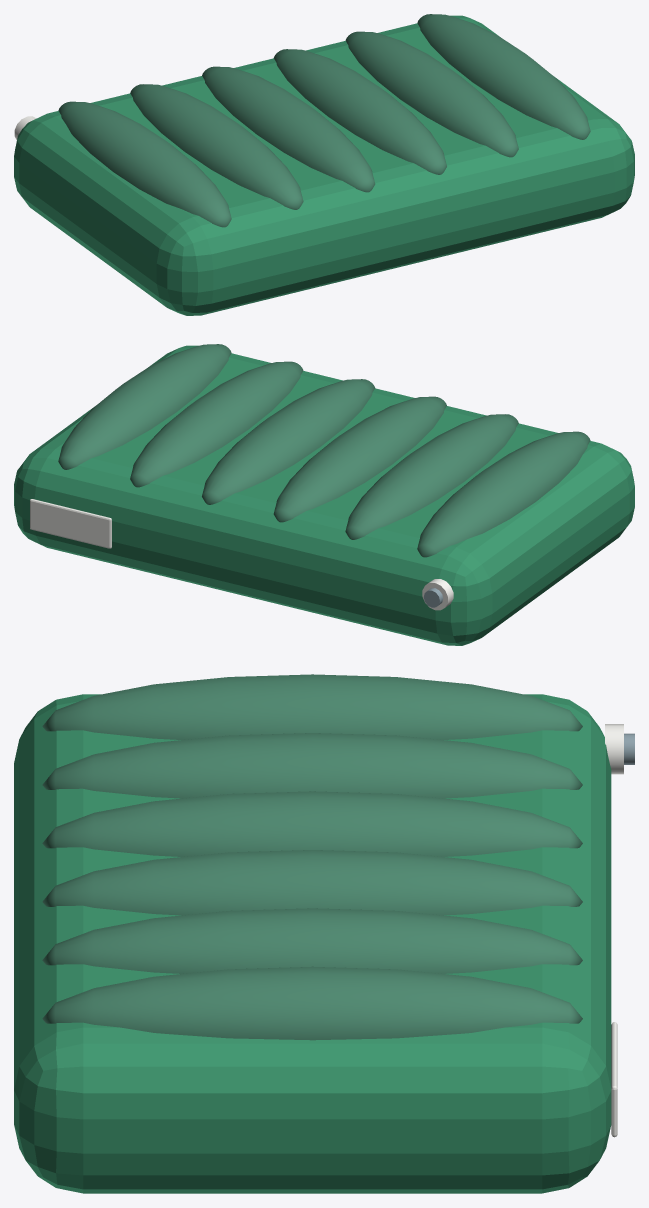
Rendered from mattress.fbx.
3 views of the same model, one above another, from view 1: azimuth 30°, elevation 25°; view 2: azimuth 150°, elevation 25°; view 3: azimuth 270°, elevation 25° (orthographic). The views are drawn at different scales.
Visible parts, largest first — view 1: Air Mattress; view 2: Air Mattress; view 3: Air Mattress.
Boxes of the visible parts, bbox=[...] form: Air Mattress: bbox=[14, 14, 634, 315]; Air Mattress: bbox=[14, 344, 634, 645]; Air Mattress: bbox=[14, 674, 634, 1193].
Size of the model in its own units: 2.9 by 0.69 by 1.98.
